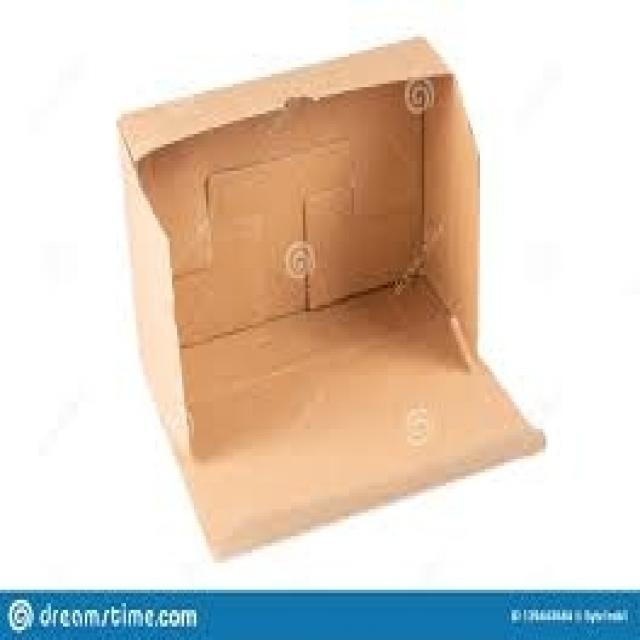cardboard paper: (118, 38, 541, 554)
